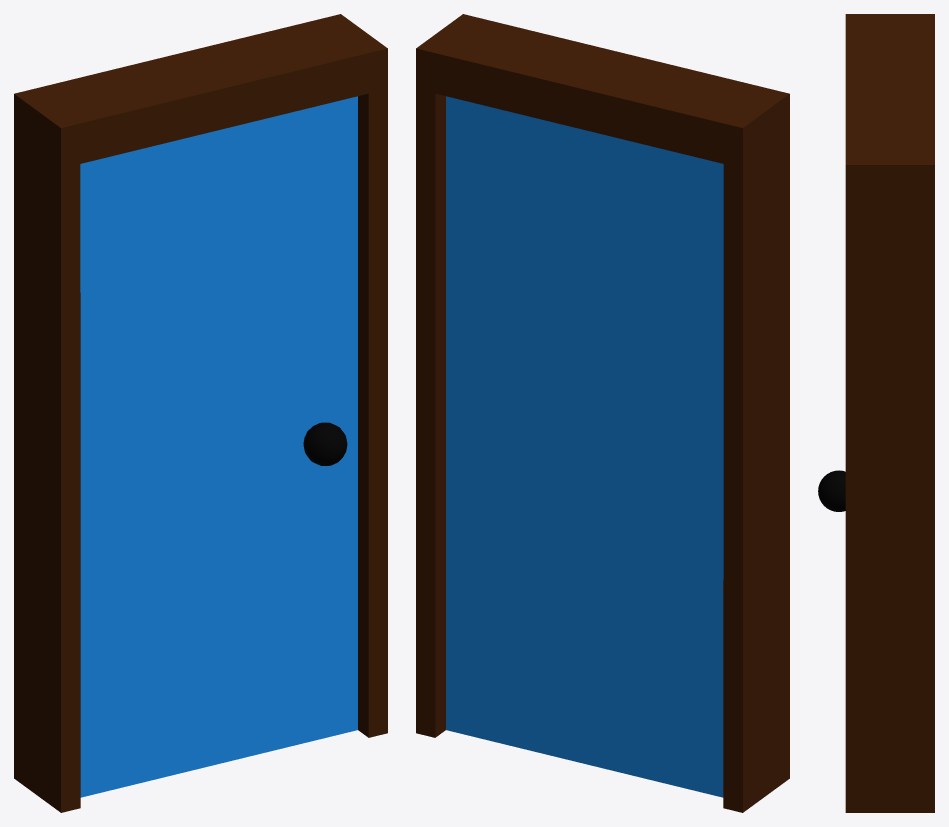
Rendered from door.fbx.
3 renders of one model, left to right at view 1: azimuth 30°, elevation 25°; view 2: azimuth 150°, elevation 25°; view 3: azimuth 270°, elevation 25°, orthographic. The views are drawn at different scales.
Visible parts, largest first — view 1: Sphere; view 2: Sphere; view 3: Sphere.
Boxes of the visible parts, x1,y1,x2,y2 form: Sphere: (14,14,387,812); Sphere: (416,14,789,812); Sphere: (818,14,934,812).
Size of the model in its own units: 205 by 411 by 67.12.
